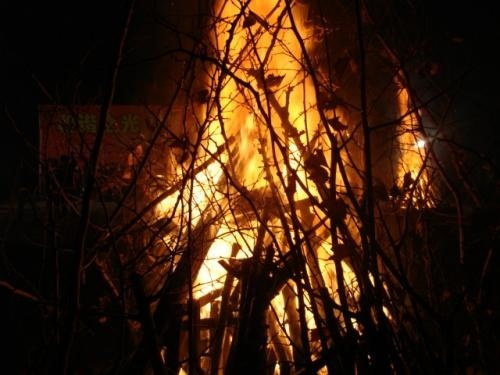fire: (169, 0, 344, 252), (393, 85, 432, 208)
